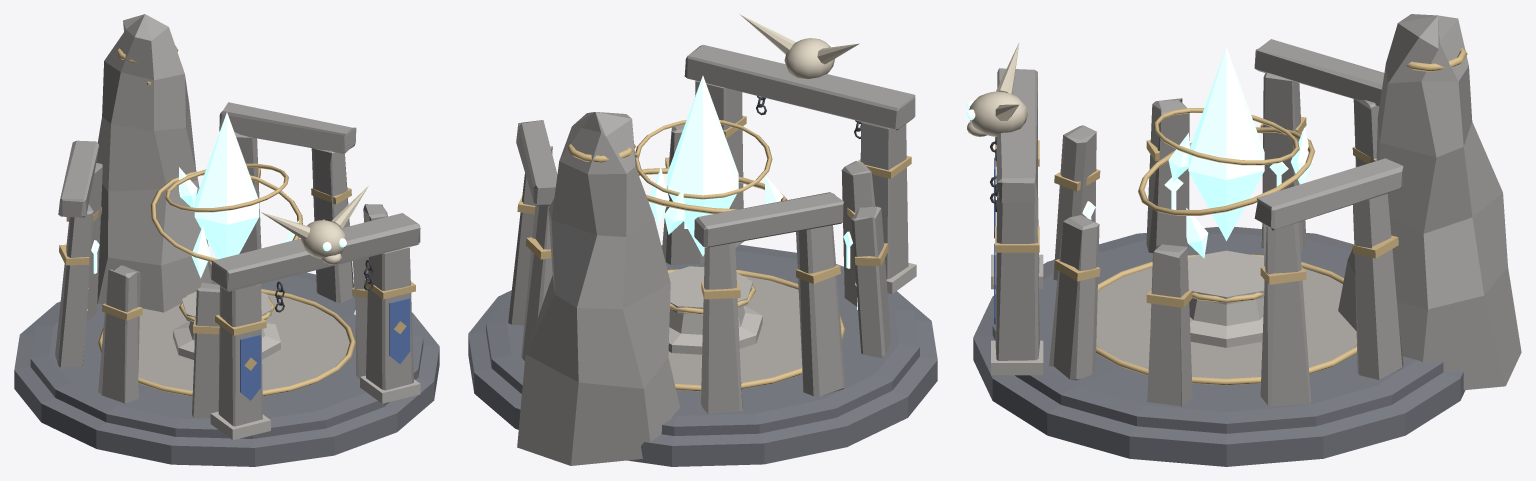
The model's file is sanctum.glb.
The picture shows the model from 3 angles, left to right: view 1: azimuth 30°, elevation 25°; view 2: azimuth 150°, elevation 25°; view 3: azimuth 270°, elevation 25°; orthographic projection. The views are drawn at different scales.
Parts seen in each view (by area): view 1: sanctum; view 2: sanctum; view 3: sanctum.
Boxes of the visible parts, x1,y1,x2,y2 form: sanctum: [14, 14, 439, 466]; sanctum: [468, 14, 937, 466]; sanctum: [966, 14, 1521, 466].
Bounding box in the file's own units: 18.4 × 14.01 × 20.17.
